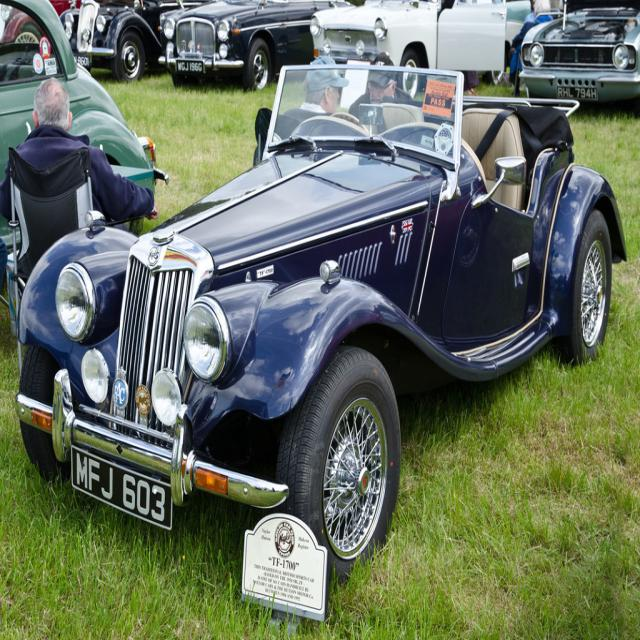car: (4, 45, 585, 573), (0, 0, 169, 287), (303, 0, 541, 102), (160, 0, 356, 89), (516, 0, 638, 98), (61, 0, 210, 74), (2, 0, 74, 67)
